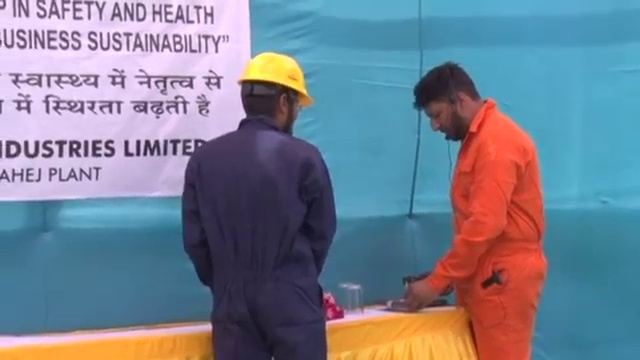helmet: (237, 52, 314, 105)
helmet_off: (410, 60, 486, 144)
helmet_on: (236, 52, 313, 137)
person: (179, 52, 335, 360), (403, 60, 550, 360)
